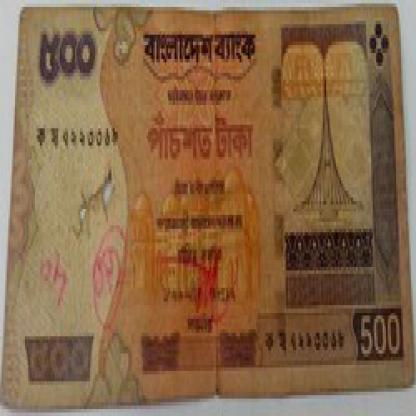500 taka: (132, 114, 272, 170), (29, 24, 112, 90)
currency: (2, 7, 414, 392)
